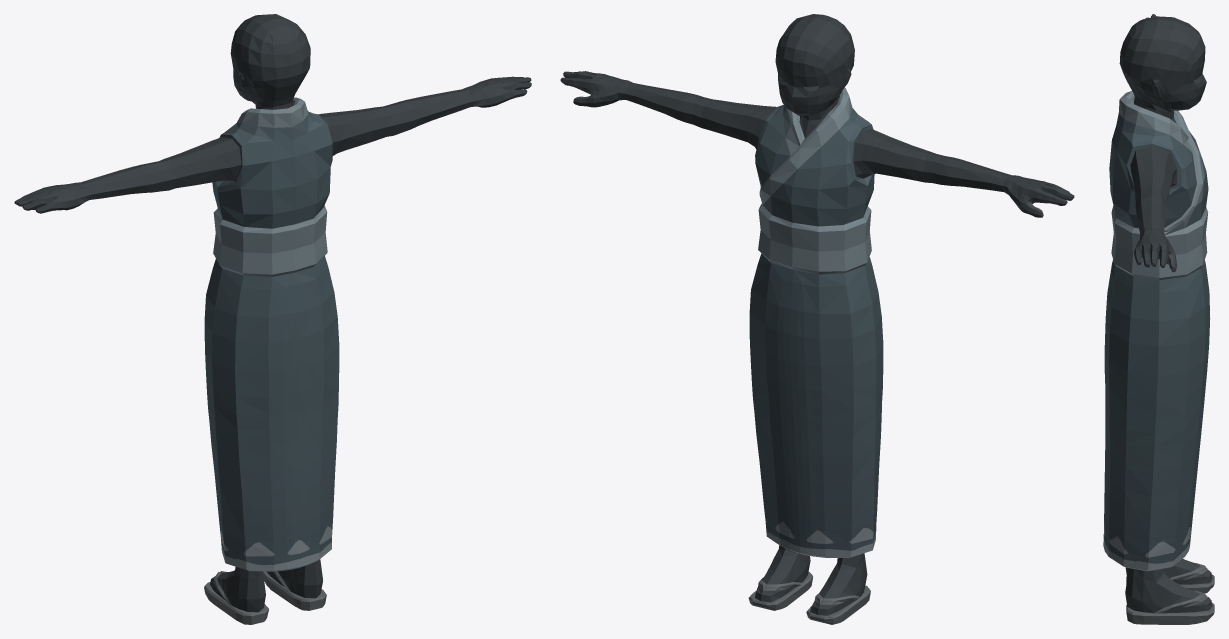
Rendered from CharSkyNPC_Body_RobedLadyRig.glb.
3 views of the same model, side by side, from view 1: azimuth 30°, elevation 25°; view 2: azimuth 150°, elevation 25°; view 3: azimuth 270°, elevation 25° (orthographic).
Visible parts, largest first — view 1: CharSkyNPC_Body_RobedLadyRig; view 2: CharSkyNPC_Body_RobedLadyRig; view 3: CharSkyNPC_Body_RobedLadyRig.
Boxes of the visible parts, x1,y1,x2,y2 form: CharSkyNPC_Body_RobedLadyRig: (14, 14, 531, 624); CharSkyNPC_Body_RobedLadyRig: (560, 14, 1074, 624); CharSkyNPC_Body_RobedLadyRig: (1103, 14, 1214, 624).
Size of the model in its own units: 12.81 by 14.01 by 2.42.
Materials: 1 (1 with a texture image).
